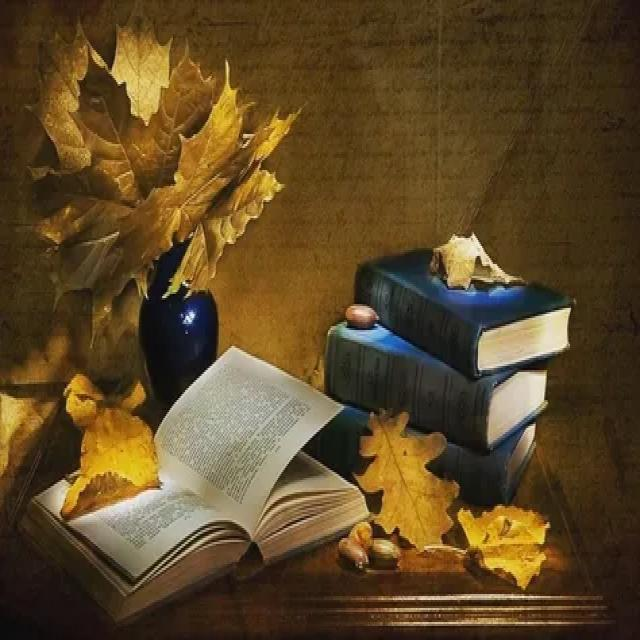book: (36, 334, 370, 622), (377, 218, 581, 380)
